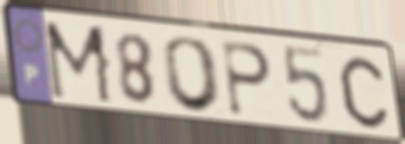5: (280, 42, 331, 129)
8: (113, 31, 159, 108)
C: (336, 54, 391, 131)
M: (41, 19, 117, 108)
O: (161, 35, 226, 116)
P: (220, 38, 274, 120)
